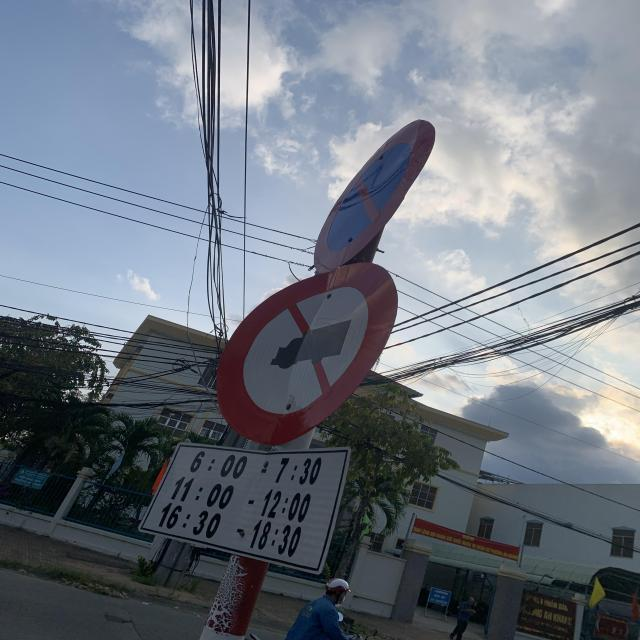Cam_Dau_Xe: (314, 119, 435, 274)
Cam_Xe_Tai: (214, 261, 398, 447)
